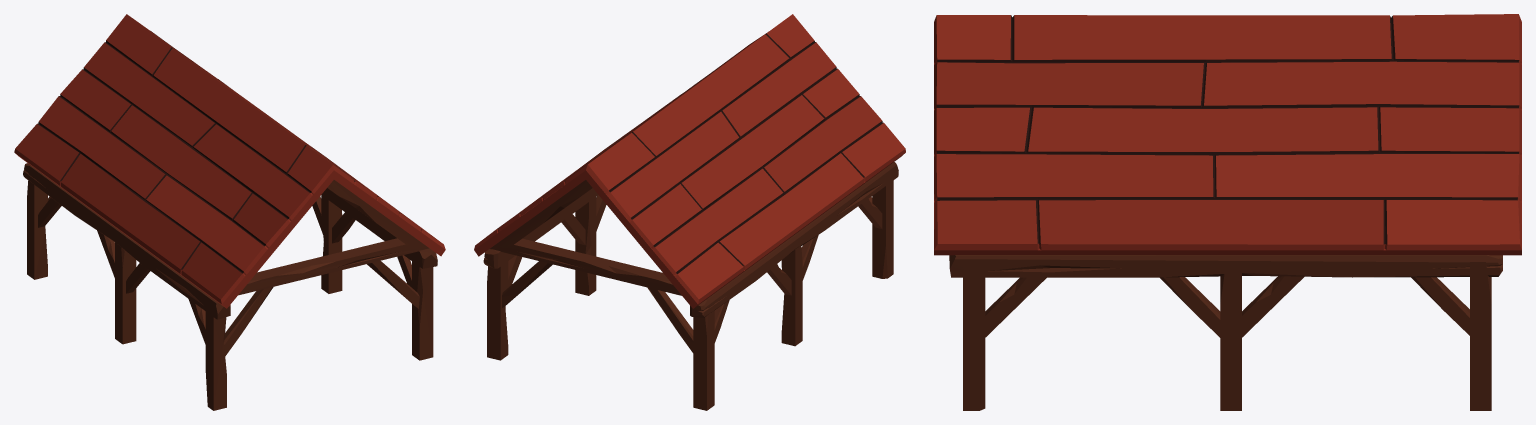
The model's file is Shed2.fbx.
3 views of the same model, side by side, from view 1: azimuth 30°, elevation 25°; view 2: azimuth 150°, elevation 25°; view 3: azimuth 270°, elevation 25° (orthographic). The views are drawn at different scales.
Parts seen in each view (by area): view 1: Shed2; view 2: Shed2; view 3: Shed2.
Boxes of the visible parts, x1,y1,x2,y2 form: Shed2: (14, 14, 445, 410); Shed2: (474, 14, 905, 410); Shed2: (934, 14, 1521, 410).
Size of the model in its own units: 123 by 119 by 197.
